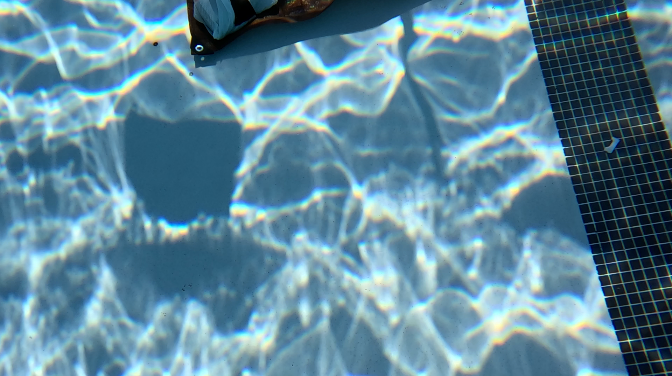sandbag: (186, 0, 339, 54)
